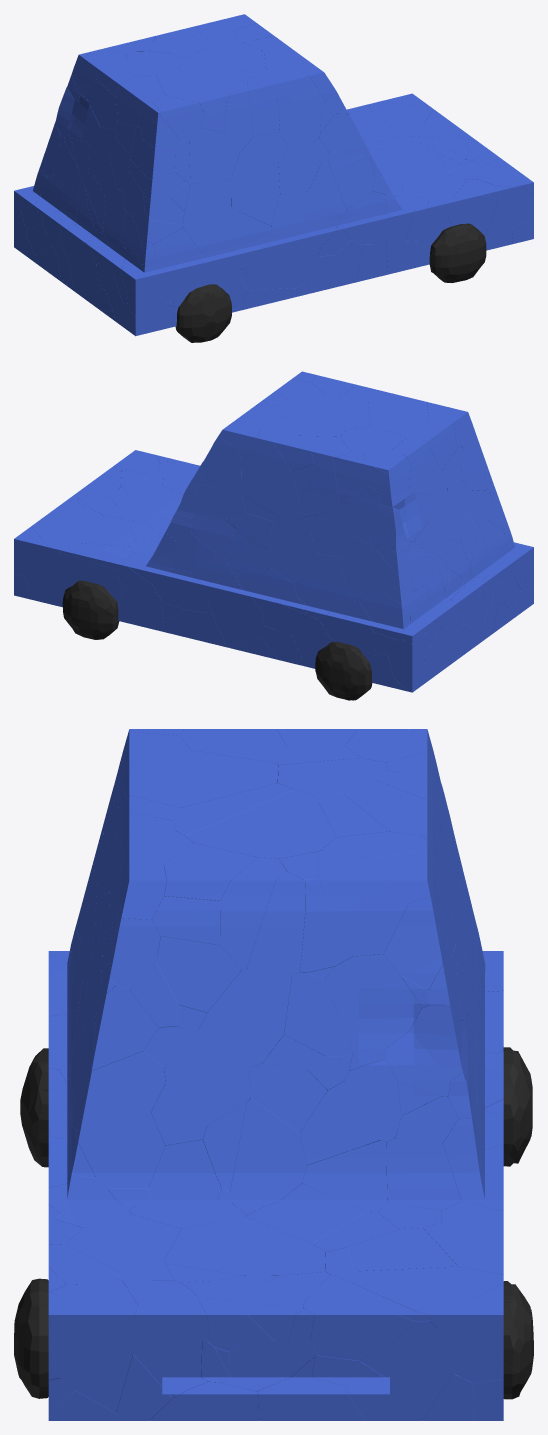
The model's file is FunnyBlueCar.fbx.
3 views of the same model, one above another, from view 1: azimuth 30°, elevation 25°; view 2: azimuth 150°, elevation 25°; view 3: azimuth 270°, elevation 25° (orthographic). The views are drawn at different scales.
Parts seen in each view (by area): view 1: CarBody_cell.140, CarBody_cell.257, CarBody_cell.194, CarBody_cell.286, CarBody_cell.077, CarBody_cell.288, CarBody_cell.030, CarBody_cell.008, CarWheels_cell.013, CarBody_cell.315, CarBody_cell.249, CarBody_cell.291 (+81 smaller); view 2: CarBody_cell.099, CarBody_cell.221, CarBody_cell.256, CarBody_cell.126, CarBody_cell.031, CarBody_cell.280, CarBody_cell.030, CarBody_cell.178, CarBody_cell.230, CarBody_cell.060, CarBody_cell.008, CarBody_cell.118 (+86 smaller); view 3: CarBody_cell.129, CarBody_cell.008, CarBody_cell.125, CarBody_cell.173, CarBody_cell.280, CarBody_cell.030, CarBody_cell.295, CarBody_cell.314, CarBody_cell.198, CarBody_cell.058, CarBody_cell.017, CarBody_cell.146 (+88 smaller).
Boxes of the visible parts, box(x1,y1,x2,y2) form: CarBody_cell.140: box(246, 235, 318, 290); CarBody_cell.257: box(271, 191, 337, 250); CarBody_cell.194: box(182, 179, 231, 254); CarBody_cell.286: box(203, 208, 270, 269); CarBody_cell.077: box(189, 127, 237, 183); CarBody_cell.288: box(336, 191, 394, 244); CarBody_cell.030: box(156, 69, 230, 113); CarBody_cell.008: box(376, 140, 446, 179); CarWheels_cell.013: box(429, 226, 486, 282); CarBody_cell.315: box(327, 152, 374, 209); CarBody_cell.249: box(153, 228, 206, 288); CarBody_cell.291: box(447, 179, 498, 236); CarBody_cell.099: box(241, 440, 299, 517); CarBody_cell.221: box(268, 512, 317, 585); CarBody_cell.256: box(212, 590, 263, 647); CarBody_cell.126: box(323, 601, 374, 661); CarBody_cell.031: box(363, 449, 410, 498); CarBody_cell.280: box(283, 394, 356, 430); CarBody_cell.030: box(368, 394, 428, 431); CarBody_cell.178: box(153, 568, 212, 613); CarBody_cell.230: box(24, 548, 70, 607); CarBody_cell.060: box(370, 494, 409, 551); CarBody_cell.008: box(109, 486, 183, 520); CarBody_cell.118: box(118, 584, 163, 631); CarBody_cell.129: box(48, 1278, 138, 1413); CarBody_cell.008: box(163, 1216, 325, 1275); CarBody_cell.125: box(347, 1320, 452, 1420); CarBody_cell.173: box(324, 954, 421, 1053); CarBody_cell.280: box(185, 790, 335, 858); CarBody_cell.030: box(124, 750, 278, 807); CarBody_cell.295: box(303, 1275, 418, 1360); CarBody_cell.314: box(317, 851, 408, 956); CarBody_cell.198: box(199, 969, 291, 1068); CarBody_cell.058: box(230, 1098, 306, 1214); CarBody_cell.017: box(129, 1139, 246, 1228); CarBody_cell.146: box(116, 1281, 207, 1420).
Bounding box in the file's own units: 9.95 × 5.24 × 6.01.
